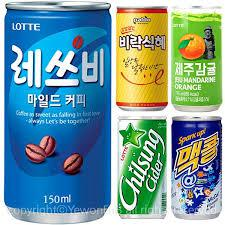letsbe: (2, 0, 115, 224)
